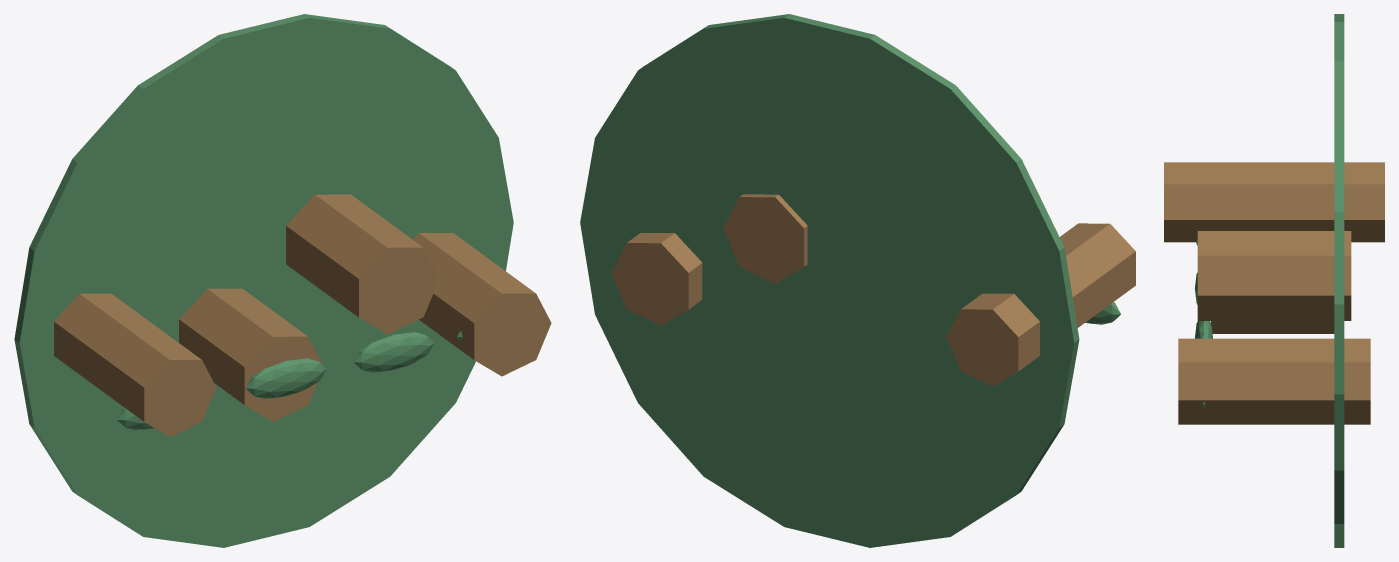
The model's file is 02_local_prop_cluster.glb.
3 views of the same model, side by side, from view 1: azimuth 30°, elevation 25°; view 2: azimuth 150°, elevation 25°; view 3: azimuth 270°, elevation 25° (orthographic). The views are drawn at different scales.
Visible parts, largest first — view 1: scatter_base, root_stump_2, root_stump_0, root_stump_3, root_stump_1, moss_2, moss_1; view 2: scatter_base, root_stump_0, root_stump_3, root_stump_2; view 3: root_stump_3, root_stump_0, root_stump_2, scatter_base, root_stump_1, moss_2.
Part boxes in pixels (box(x1,y1,x2,y2)): scatter_base: box(14, 14, 513, 547); root_stump_2: box(286, 194, 439, 334); root_stump_0: box(54, 293, 216, 436); root_stump_3: box(413, 233, 551, 376); root_stump_1: box(179, 288, 322, 421); moss_2: box(353, 332, 434, 372); moss_1: box(245, 358, 326, 398); scatter_base: box(580, 14, 1079, 547); root_stump_0: box(946, 223, 1135, 386); root_stump_3: box(611, 233, 702, 325); root_stump_2: box(723, 194, 807, 283); root_stump_3: box(1178, 338, 1370, 424); root_stump_0: box(1164, 162, 1384, 242); root_stump_2: box(1197, 231, 1351, 320); scatter_base: box(1334, 14, 1344, 547); root_stump_1: box(1211, 321, 1334, 333); moss_2: box(1195, 321, 1212, 338).
Size of the model in its own units: 1.9 by 1.87 by 0.7822.
